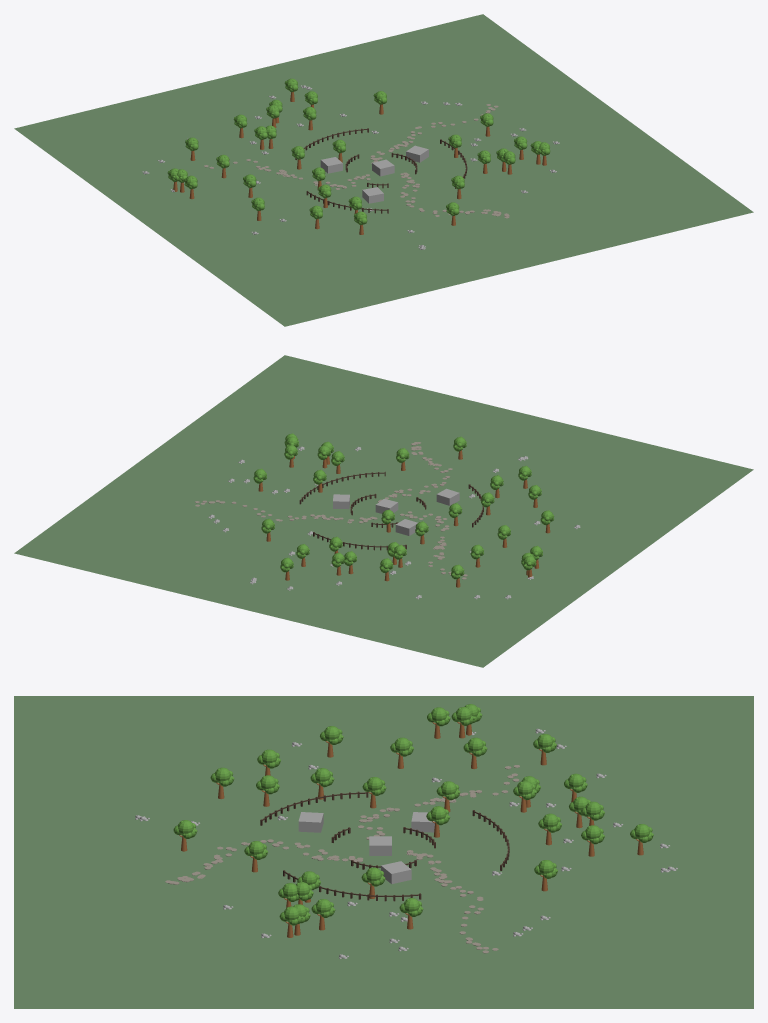
3 views of the same model, one above another, from view 1: azimuth 30°, elevation 25°; view 2: azimuth 150°, elevation 25°; view 3: azimuth 270°, elevation 25° (orthographic). The views are drawn at different scales.
Parts seen in each view (by area): view 1: pPlane1, MASH1_ReproMesh1, MASH3_ReproMesh1, MASH2_ReproMesh1; view 2: pPlane1, MASH1_ReproMesh1, MASH3_ReproMesh1, MASH2_ReproMesh1; view 3: pPlane1, MASH1_ReproMesh1, MASH3_ReproMesh1, MASH2_ReproMesh1, pCube4.
Part boxes in pixels (x1,y1,x2,y2): pPlane1: (14,14,753,326); MASH1_ReproMesh1: (167,78,550,234); MASH3_ReproMesh1: (204,104,509,218); MASH2_ReproMesh1: (142,85,559,249); pPlane1: (14,355,753,667); MASH1_ReproMesh1: (253,433,554,587); MASH3_ReproMesh1: (195,442,467,579); MASH2_ReproMesh1: (208,446,580,599); pPlane1: (14,696,753,1008); MASH1_ReproMesh1: (173,704,653,937); MASH3_ReproMesh1: (165,765,519,953); MASH2_ReproMesh1: (135,728,677,958); pCube4: (381,861,411,884).
Bounding box in the file's own units: 330 × 19.58 × 330.
